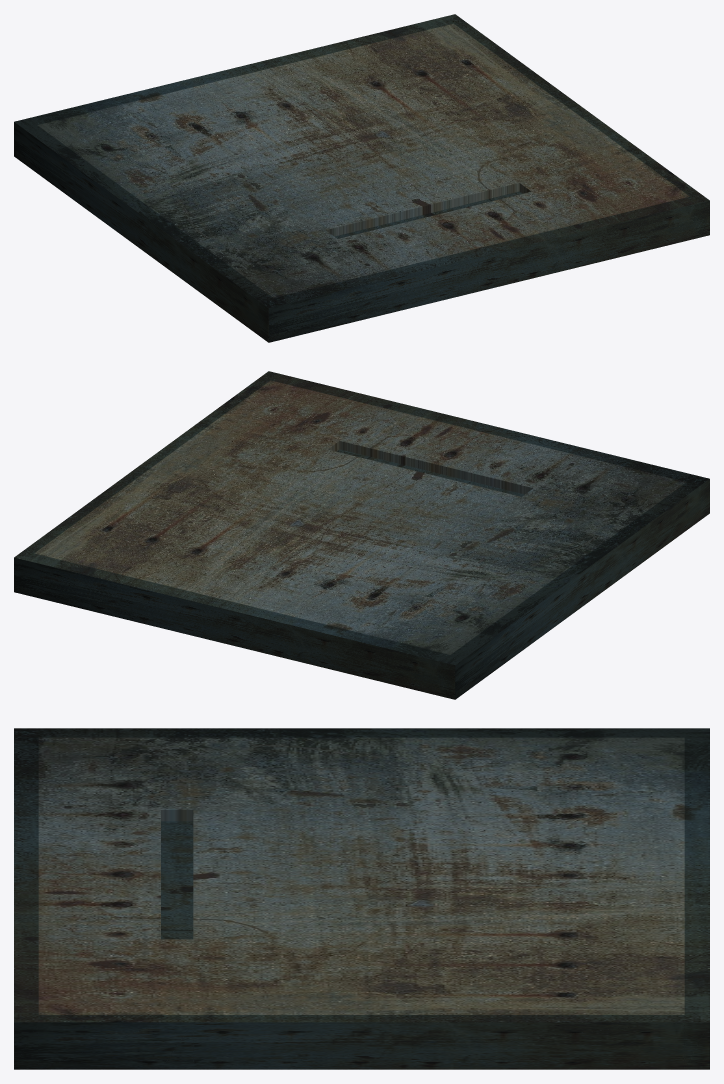
Rendered from tryagain.fbx.
The picture shows the model from 3 angles, top to bottom: view 1: azimuth 30°, elevation 25°; view 2: azimuth 150°, elevation 25°; view 3: azimuth 270°, elevation 25°; orthographic projection. The views are drawn at different scales.
Visible parts, largest first — view 1: Cube; view 2: Cube; view 3: Cube.
Part boxes in pixels (x1,y1,x2,y2): Cube: (14,14,709,342); Cube: (14,371,709,699); Cube: (14,728,709,1069).
Size of the model in its own units: 200 by 15 by 200.
2 materials, 2 textured.
